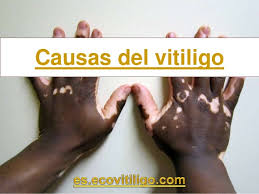vitiligo: (33, 80, 244, 148)
